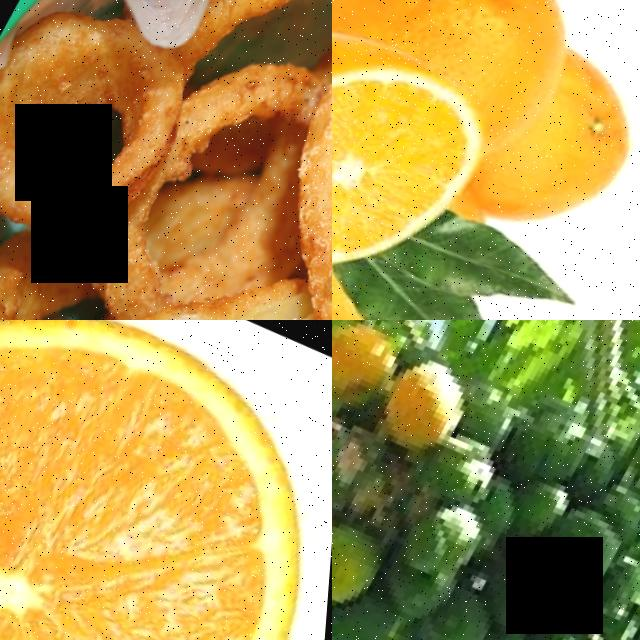orange: (0, 320, 332, 640), (332, 0, 508, 320), (332, 0, 625, 145), (490, 49, 640, 261)
pawpaw: (371, 348, 490, 467), (394, 496, 501, 598), (537, 503, 640, 605), (477, 553, 581, 640), (332, 320, 417, 421), (332, 507, 402, 621), (420, 581, 512, 640)
